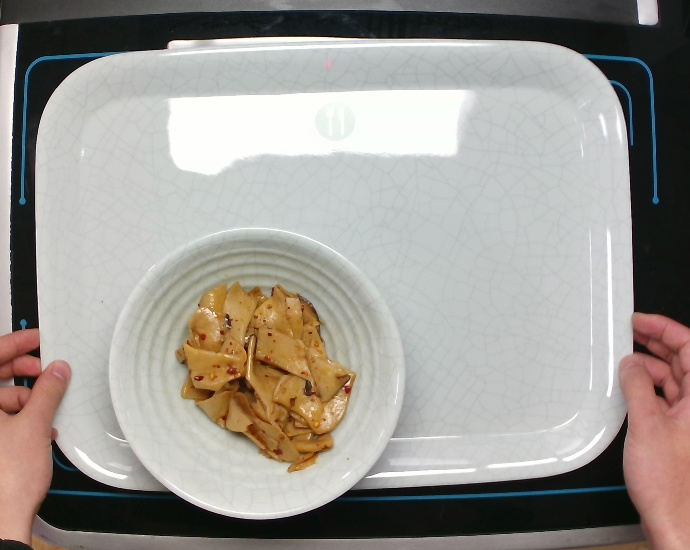JYsf-Xiao_Tang_Wan: (106, 222, 410, 521)
